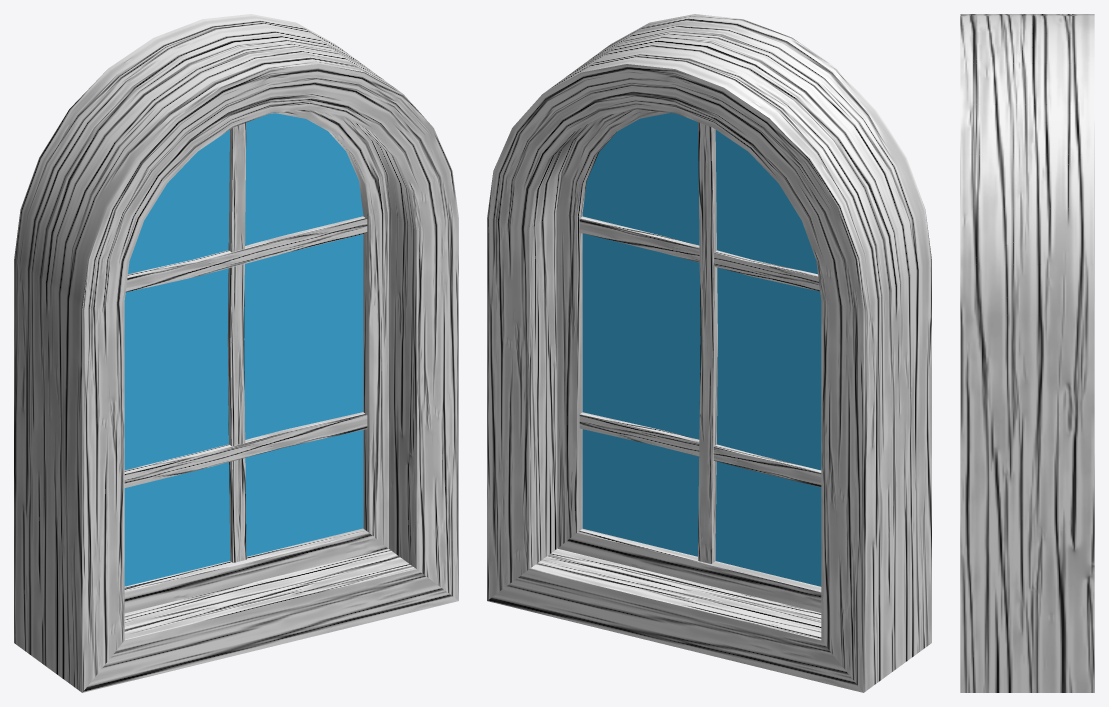
File: ARC0110030.fbx
3 renders of one model, left to right at view 1: azimuth 30°, elevation 25°; view 2: azimuth 150°, elevation 25°; view 3: azimuth 270°, elevation 25°, orthographic.
Visible parts, largest first — view 1: smARC0110030; view 2: smARC0110030; view 3: smARC0110030.
Part boxes in pixels (left/top/right/bottom): smARC0110030: left=14, top=14, right=458, bottom=692; smARC0110030: left=487, top=14, right=931, bottom=692; smARC0110030: left=960, top=14, right=1094, bottom=692.
Bounding box in the file's own units: 106 × 156 × 33.36.
Materials: 1 (1 with a texture image).
